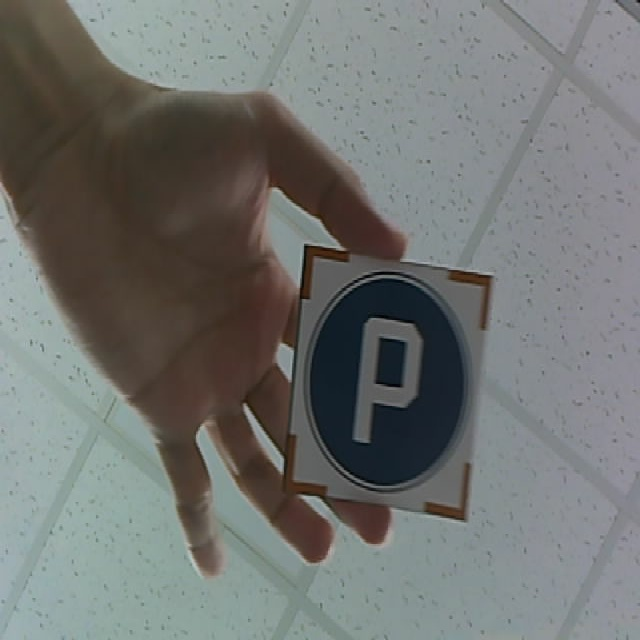parking: (281, 243, 498, 523)
